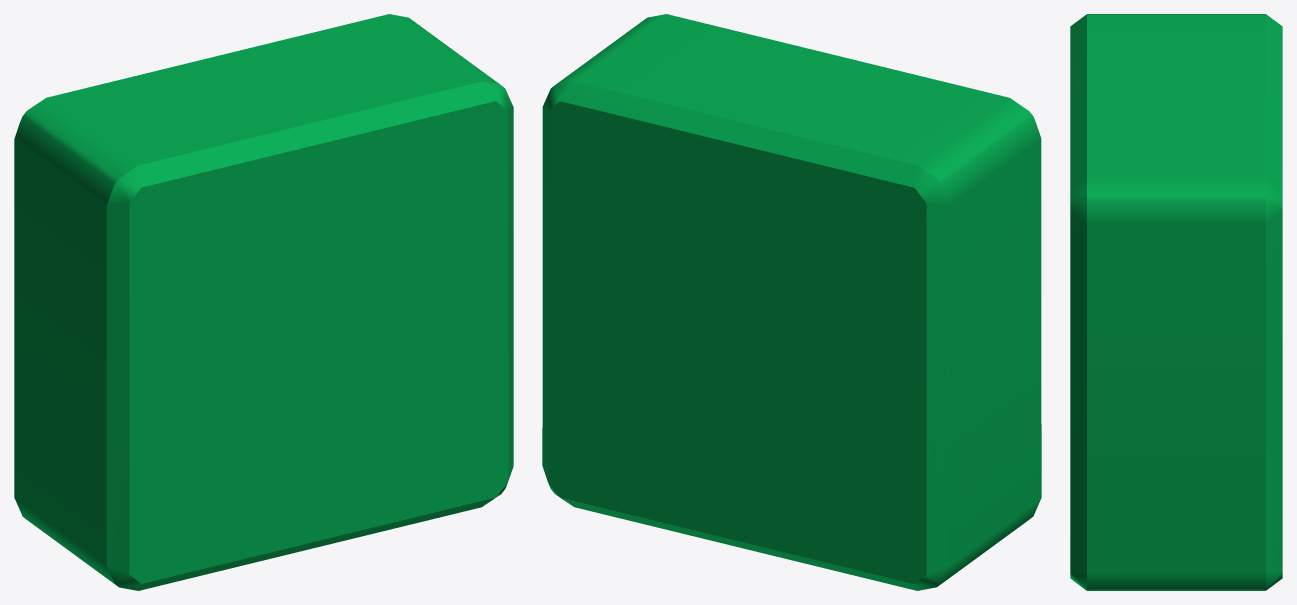
Rendered from O_square.fbx.
3 renders of one model, left to right at view 1: azimuth 30°, elevation 25°; view 2: azimuth 150°, elevation 25°; view 3: azimuth 270°, elevation 25°, orthographic. The views are drawn at different scales.
Parts seen in each view (by area): view 1: square; view 2: square; view 3: square.
Part boxes in pixels (bbox=[...]): square: bbox=[14, 14, 513, 590]; square: bbox=[542, 14, 1041, 590]; square: bbox=[1070, 14, 1282, 590].
Size of the model in its own units: 426 by 426 by 199.
